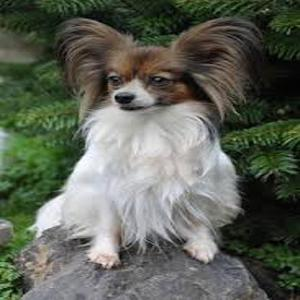yell: (32, 17, 267, 268)
